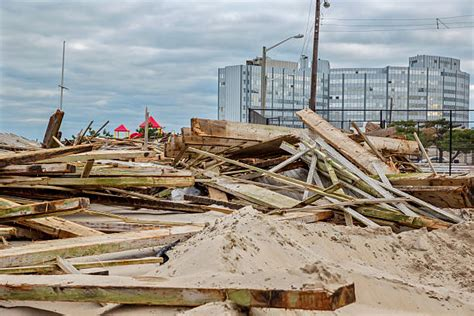pole: (305, 2, 333, 129), (54, 41, 73, 135)
